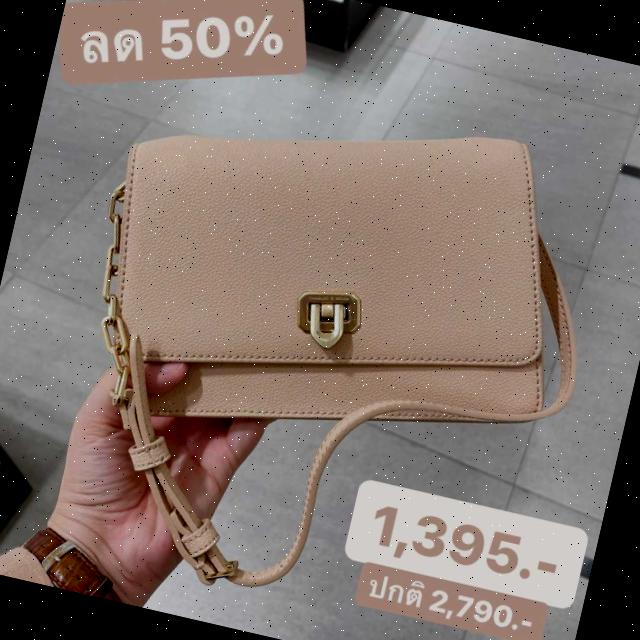Handbag: (71, 56, 596, 500)
